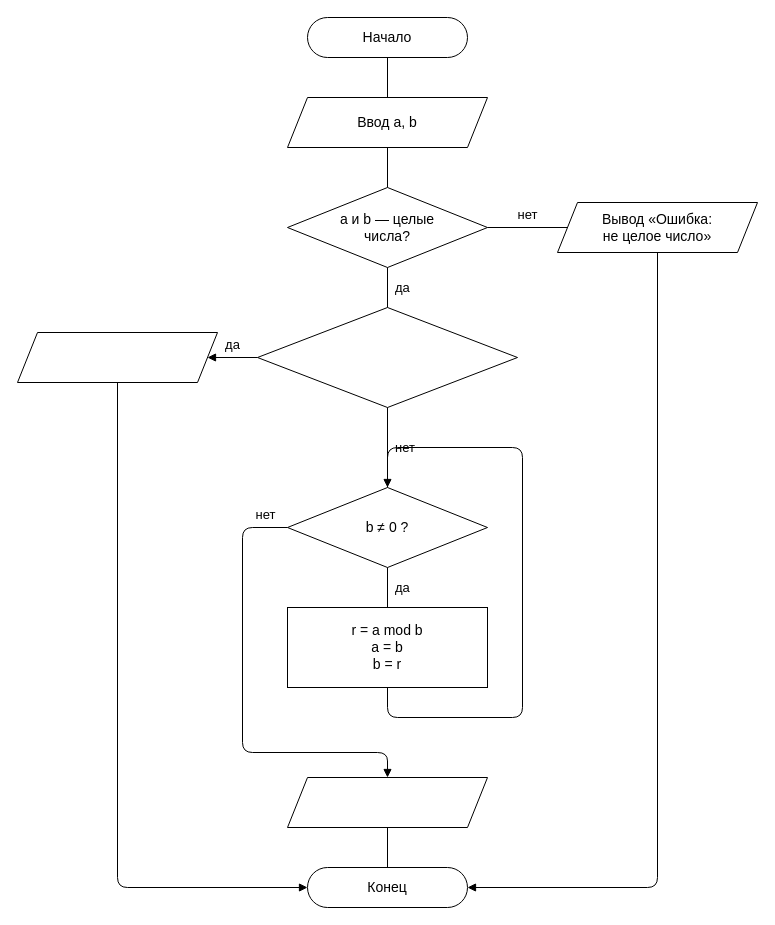
This 775x925 diagram has some shape labels left out. Here are the shapes that lost their labels. From the top down, the centre of each, then its label:
At [117,357]: "Вывод «Ошибка: недопустимые a, b»".
At [387,357]: "a < 0 или b < 0 или a = b = 0 ?".
At [387,802]: "Вывод a".
